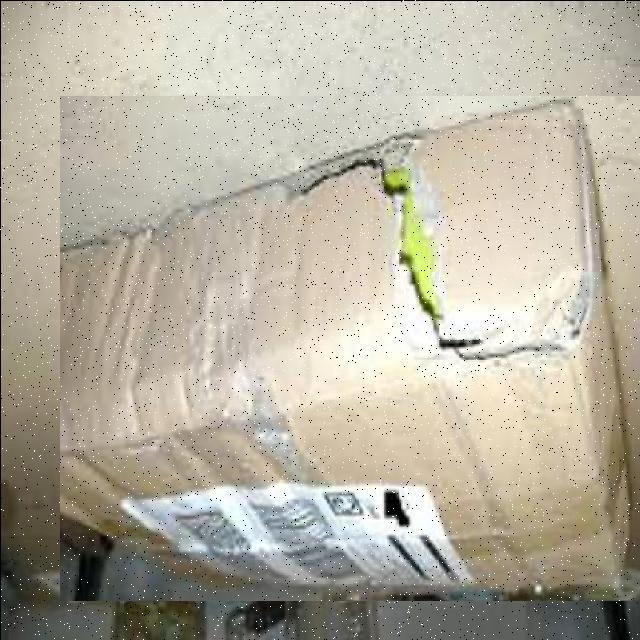defect: (59, 95, 638, 600)
